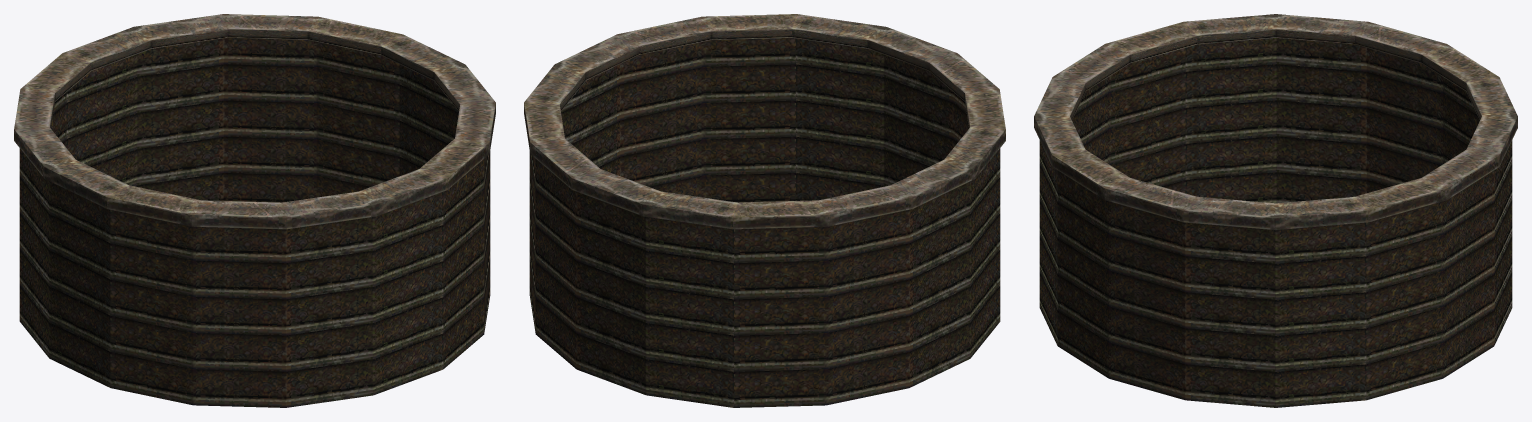
File: miniboss_01_2.fbx
3 renders of one model, left to right at view 1: azimuth 30°, elevation 25°; view 2: azimuth 150°, elevation 25°; view 3: azimuth 270°, elevation 25°, orthographic.
Parts seen in each view (by area): view 1: miniboss_02_add; view 2: miniboss_02_add; view 3: miniboss_02_add.
Part boxes in pixels (<box>): miniboss_02_add: <box>14,14,495,407</box>; miniboss_02_add: <box>524,14,1005,407</box>; miniboss_02_add: <box>1034,14,1517,407</box>.
Bounding box in the file's own units: 45.74 × 20.02 × 45.74.
